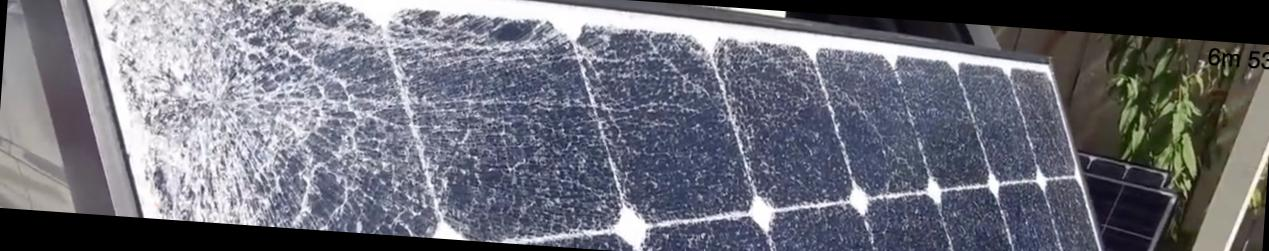Crack: (70, 0, 486, 240)
